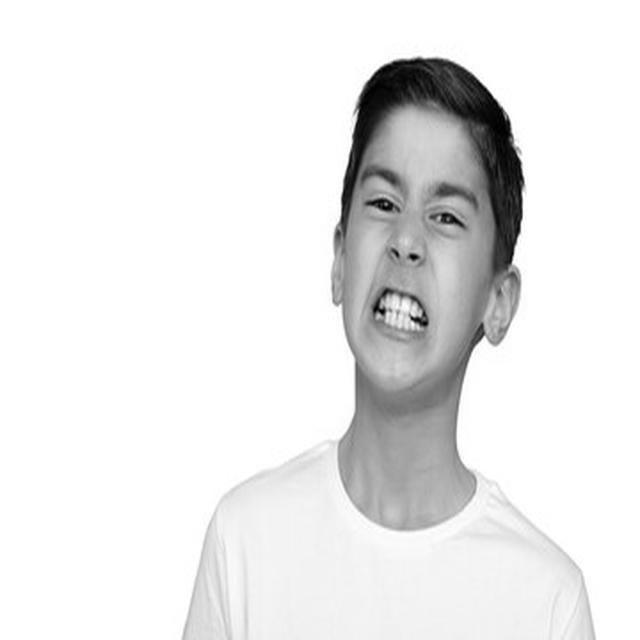Angry: (343, 108, 496, 392)
